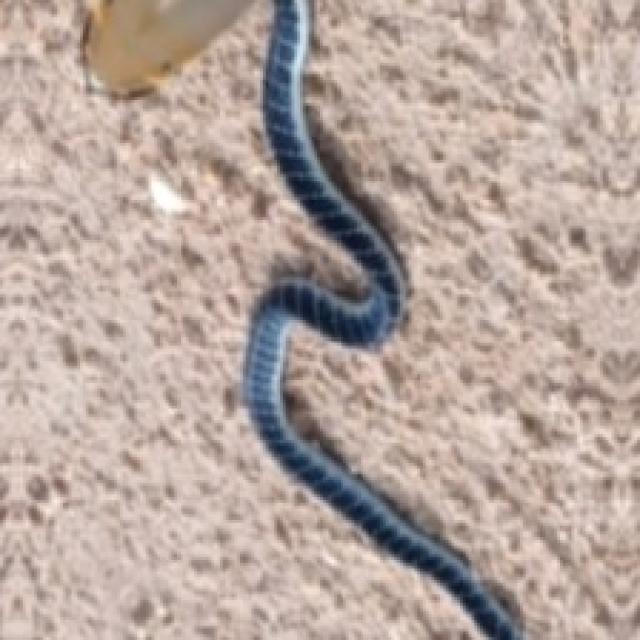king cobra: (243, 0, 523, 637)
